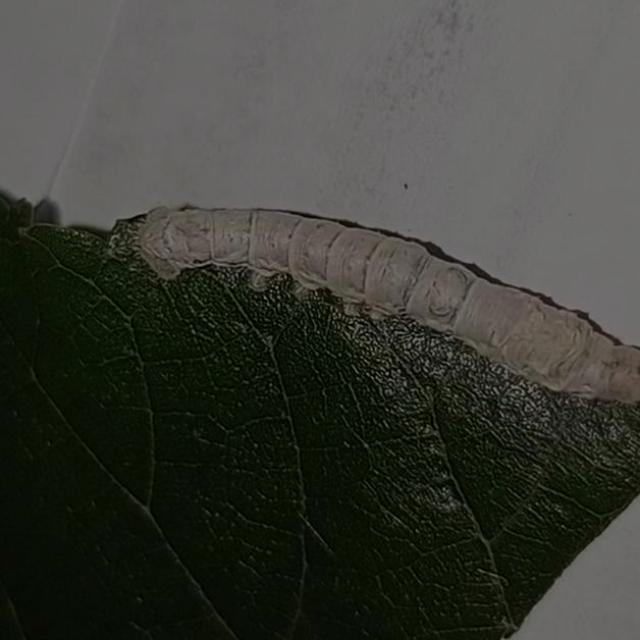Healthy: (111, 176, 640, 432)
